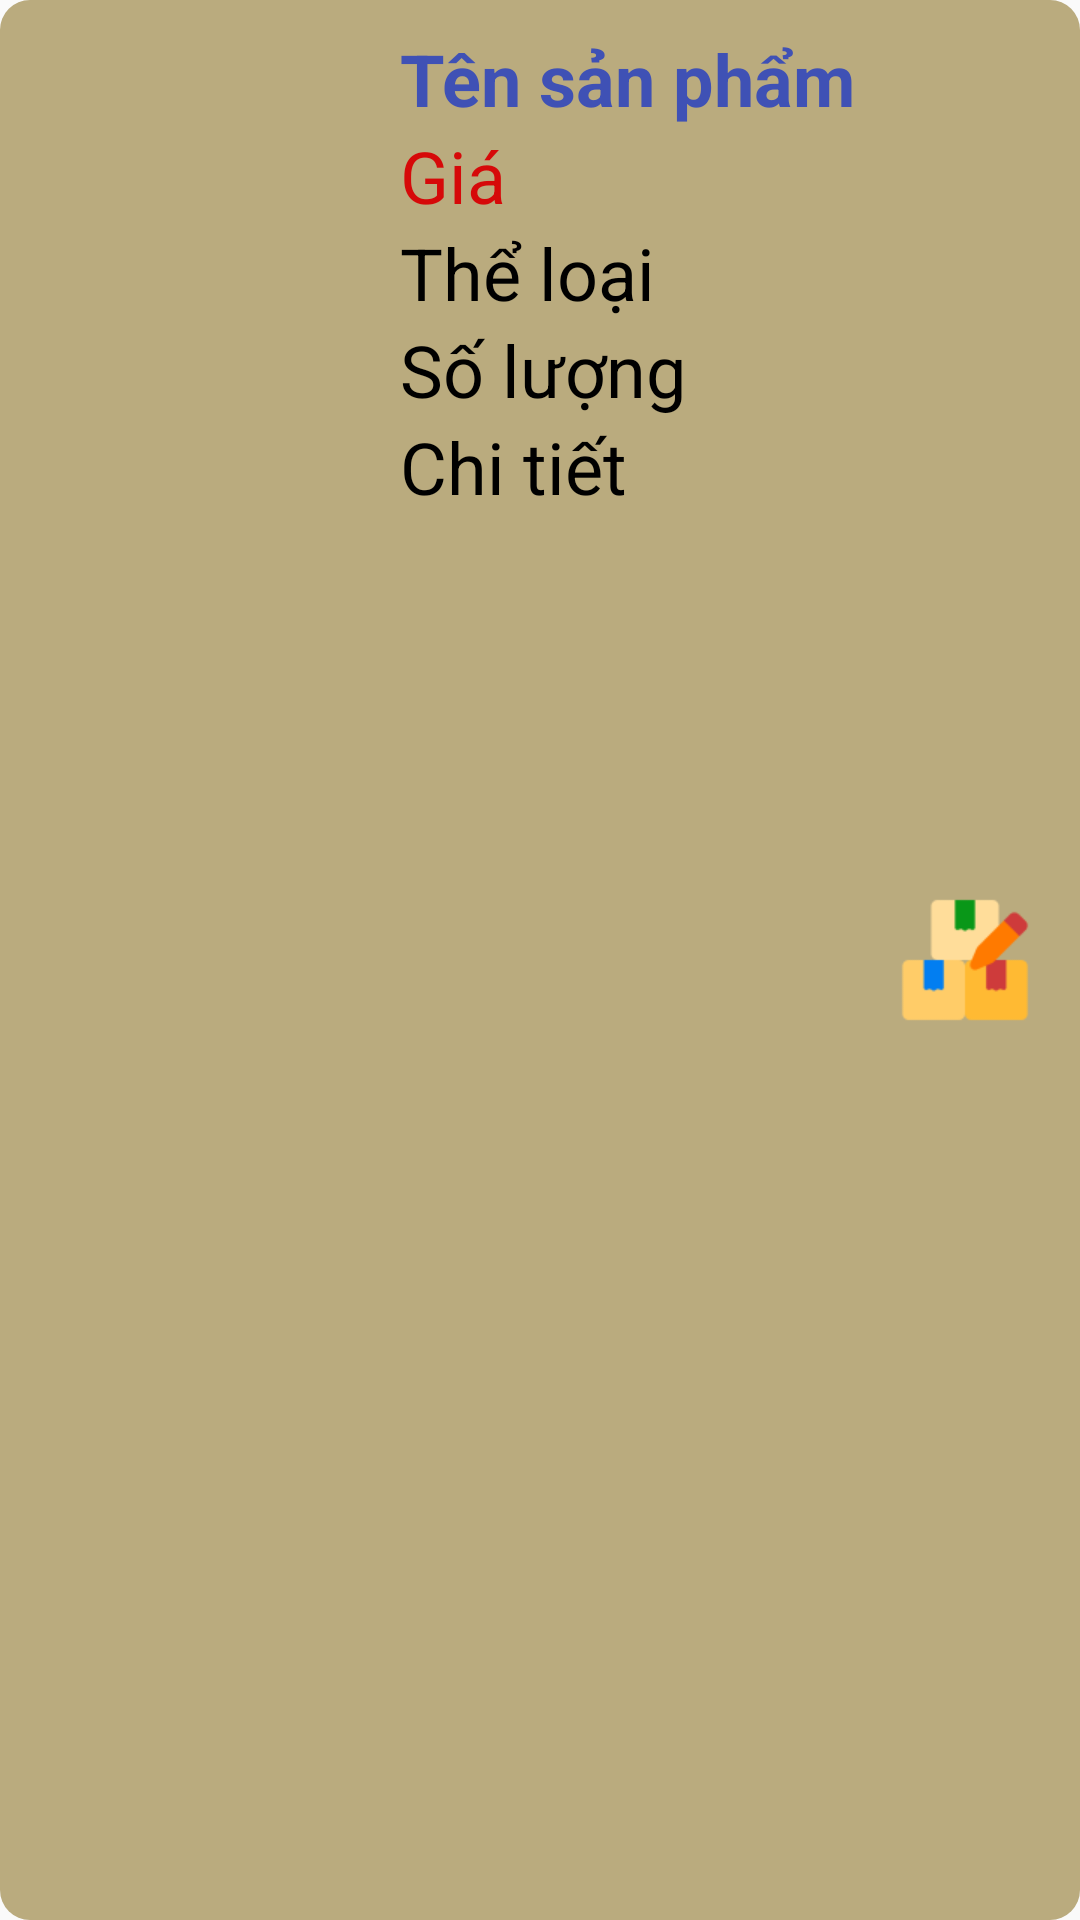

Icon bounding boxes for this 1080 x 1920 phone screenshot, format (x1, y1, x2, y2):
Sửa sản phẩm: (902, 899, 1028, 1020)
